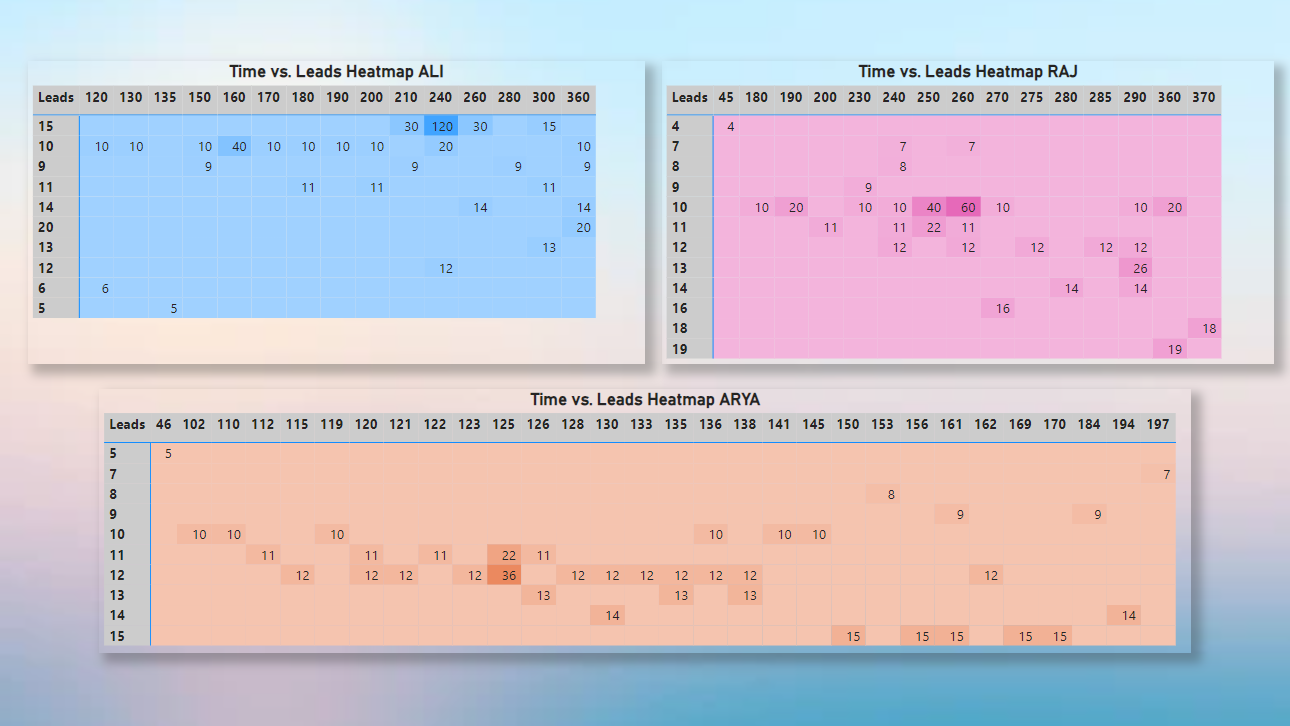

The dashboard page shown, as its layout file describes it:
{"tool":"powerbi","page":{"name":"Heat Map Time VS Leads","canvas":[1280,720],"ordinal":2},"visuals":[{"type":"pivotTable","title":"Time vs. Leads Heatmap ALI","fields":{"Rows":["Ali.Leads"],"Columns":["Ali.Time spent on LG (mins)"],"Values":["Sum(Ali.Leads)"]},"box":[30.2,60.4,609.3,299.1],"z":0},{"type":"pivotTable","title":"Time vs. Leads Heatmap ARYA","fields":{"Rows":["Arya.Leads"],"Columns":["Arya.Time spent on LG (mins)"],"Values":["Sum(Arya.Leads)"]},"box":[100.2,384.2,1078.6,260.7],"z":1000},{"type":"pivotTable","title":"Time vs. Leads Heatmap RAJ","fields":{"Rows":["Raj.Leads"],"Columns":["Raj.Time spent on LG (mins)"],"Values":["Sum(Raj.Leads)"]},"box":[655.9,60.4,605.1,299.1],"z":2000}]}

Visuals, with their boxes in screenshot pixels (x1, y1, x2, y2), scaled from the page's 1280x720 canvas onto the 1290x726 screenshot:
"Time vs. Leads Heatmap ALI" pivotTable: bbox=(30, 61, 644, 362)
"Time vs. Leads Heatmap ARYA" pivotTable: bbox=(101, 387, 1188, 650)
"Time vs. Leads Heatmap RAJ" pivotTable: bbox=(661, 61, 1271, 362)
